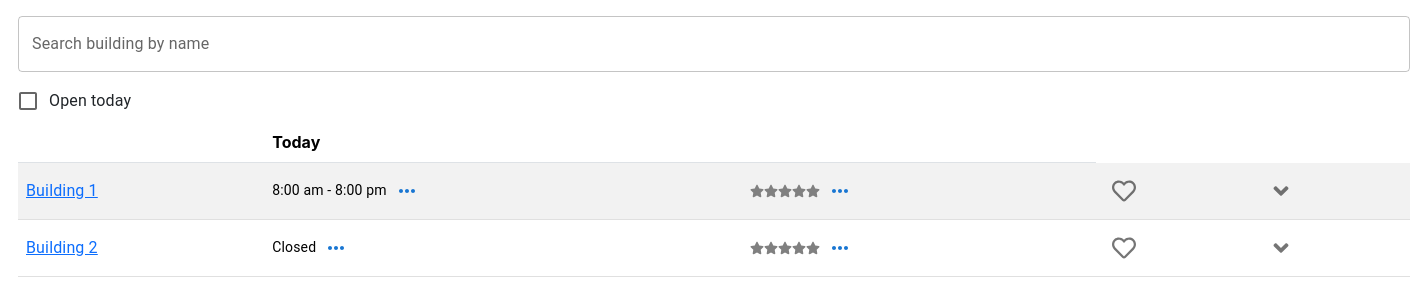
Scenario: Home component › "Open today" checkbox filters buildings correctly
Check: the text "Building 1" is shown, box [26,181,98,200]
Check: the text "Building 2" is shown, box [26,238,98,257]
# After checking the checkbox, only the open building should be visible
Click the checkbox labelled "Open today" at (74, 101), box [16,89,131,113]
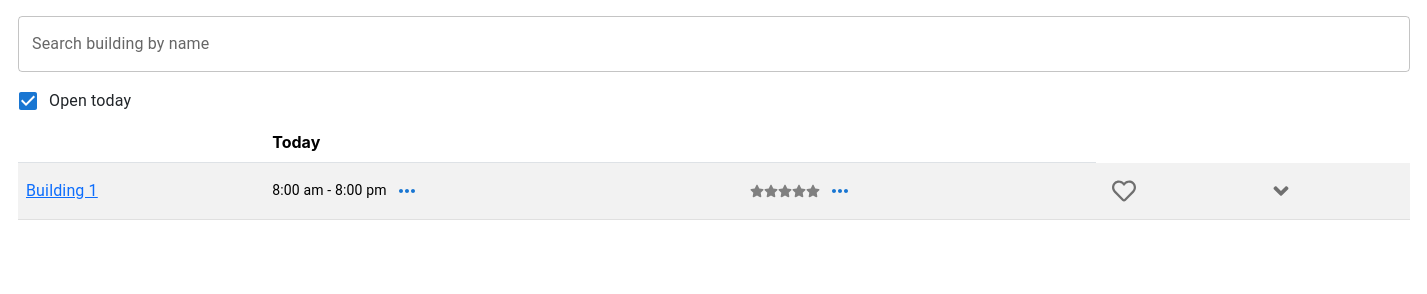
Check: the text "Building 1" is shown, box [26,181,98,200]
Check: the link "Building 2" is gone
